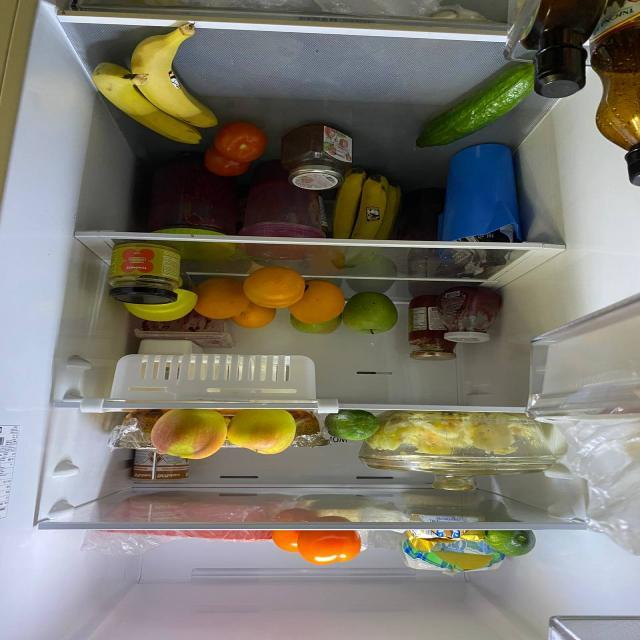Apple: (152, 410, 222, 459), (220, 409, 294, 453), (342, 293, 400, 336), (287, 317, 337, 340)
Banana: (92, 17, 214, 146), (334, 171, 402, 245)
Cucumber: (418, 60, 544, 148), (326, 415, 374, 440), (486, 530, 530, 554)
Orange: (242, 271, 310, 306), (188, 279, 248, 318)
Tomato: (298, 532, 361, 565), (220, 127, 266, 161), (206, 156, 248, 173), (277, 532, 303, 557)
